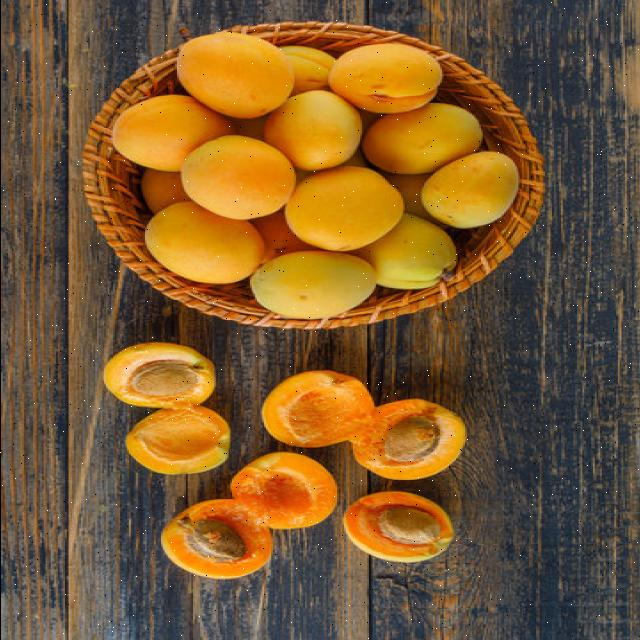Cekirdek: (183, 520, 245, 561), (132, 360, 199, 397), (384, 415, 439, 460), (377, 508, 439, 543)
Kayisi: (263, 370, 373, 446), (231, 453, 334, 526), (126, 407, 229, 472)
